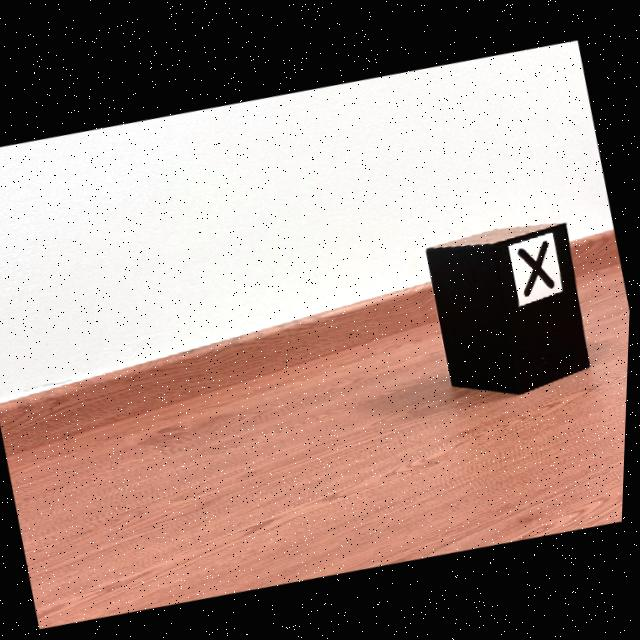X: (520, 236, 557, 291)
